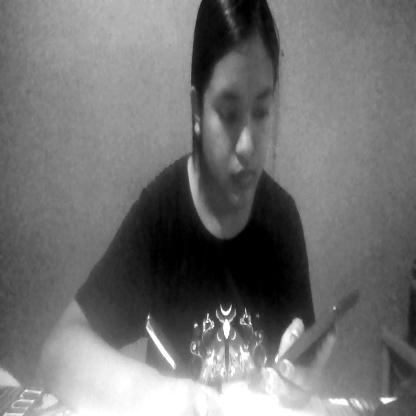Distracted: (190, 7, 300, 240)
